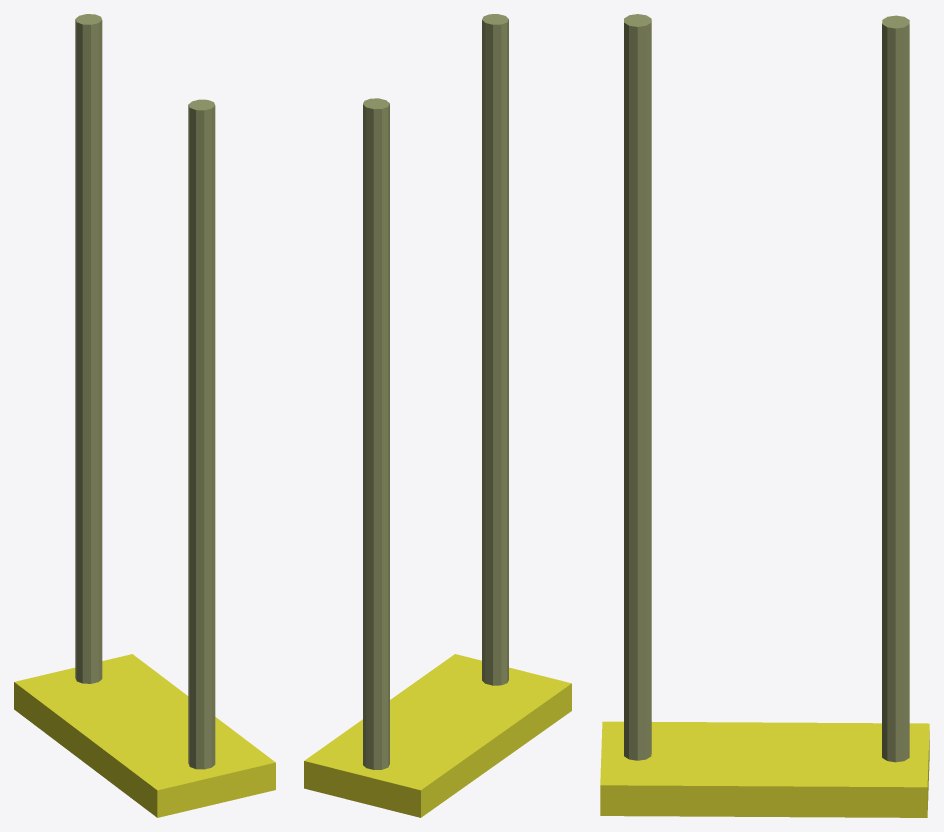
File: columpio.fbx
The picture shows the model from 3 angles, left to right: view 1: azimuth 30°, elevation 25°; view 2: azimuth 150°, elevation 25°; view 3: azimuth 270°, elevation 25°; orthographic projection. The views are drawn at different scales.
Visible parts, largest first — view 1: columpio; view 2: columpio; view 3: columpio.
Part boxes in pixels (x1,y1,x2,y2): columpio: (14,14,275,817); columpio: (304,14,571,817); columpio: (600,14,929,817).
Size of the model in its own units: 52.01 by 282 by 110.
